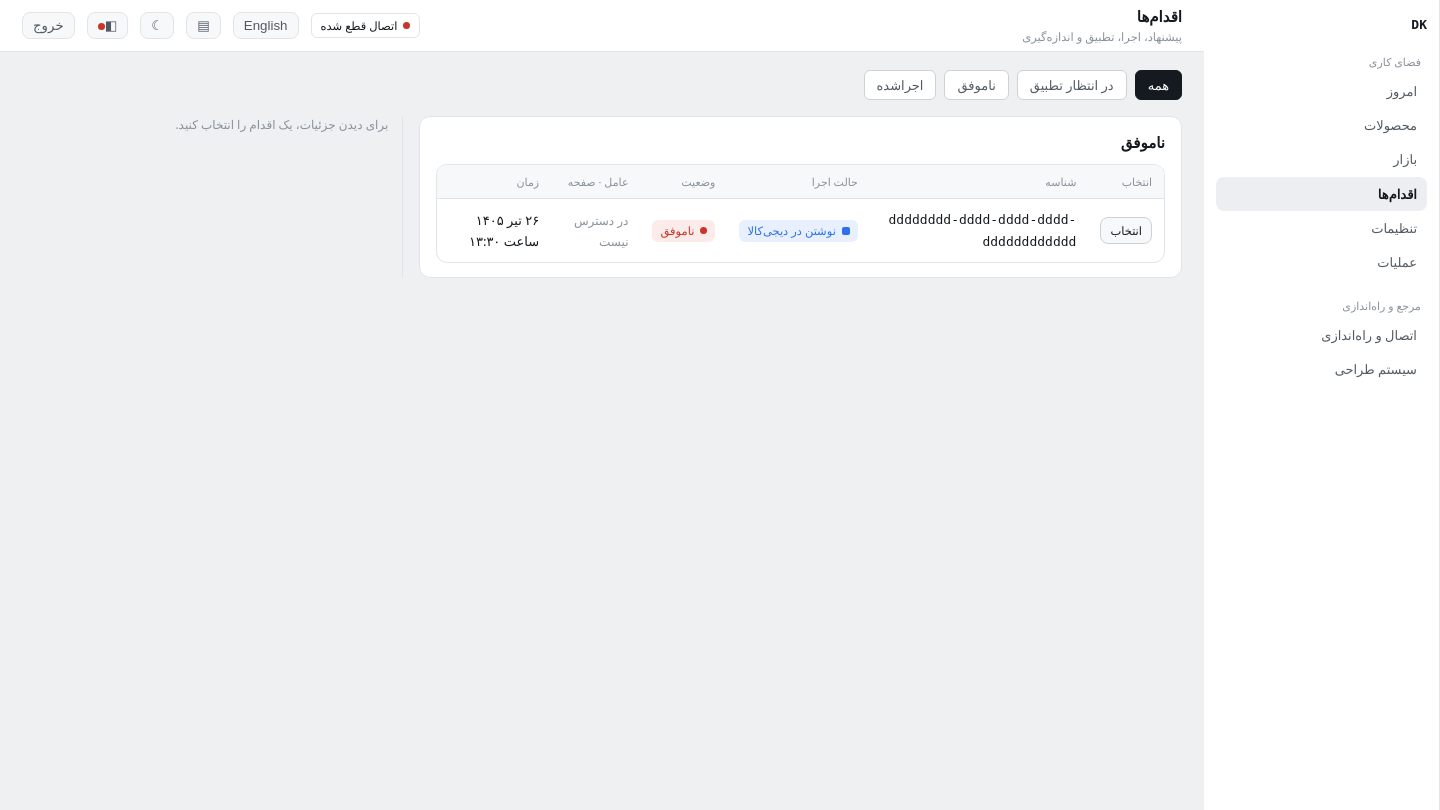
it: Actions — write-mode result handling (EXE-003) › offers retry ONLY for a definitively failed write
The width and height of the screenshot is (1440, 810).
Click the button "انتخاب" at (1126, 231), box 1100,217 -> 1152,244
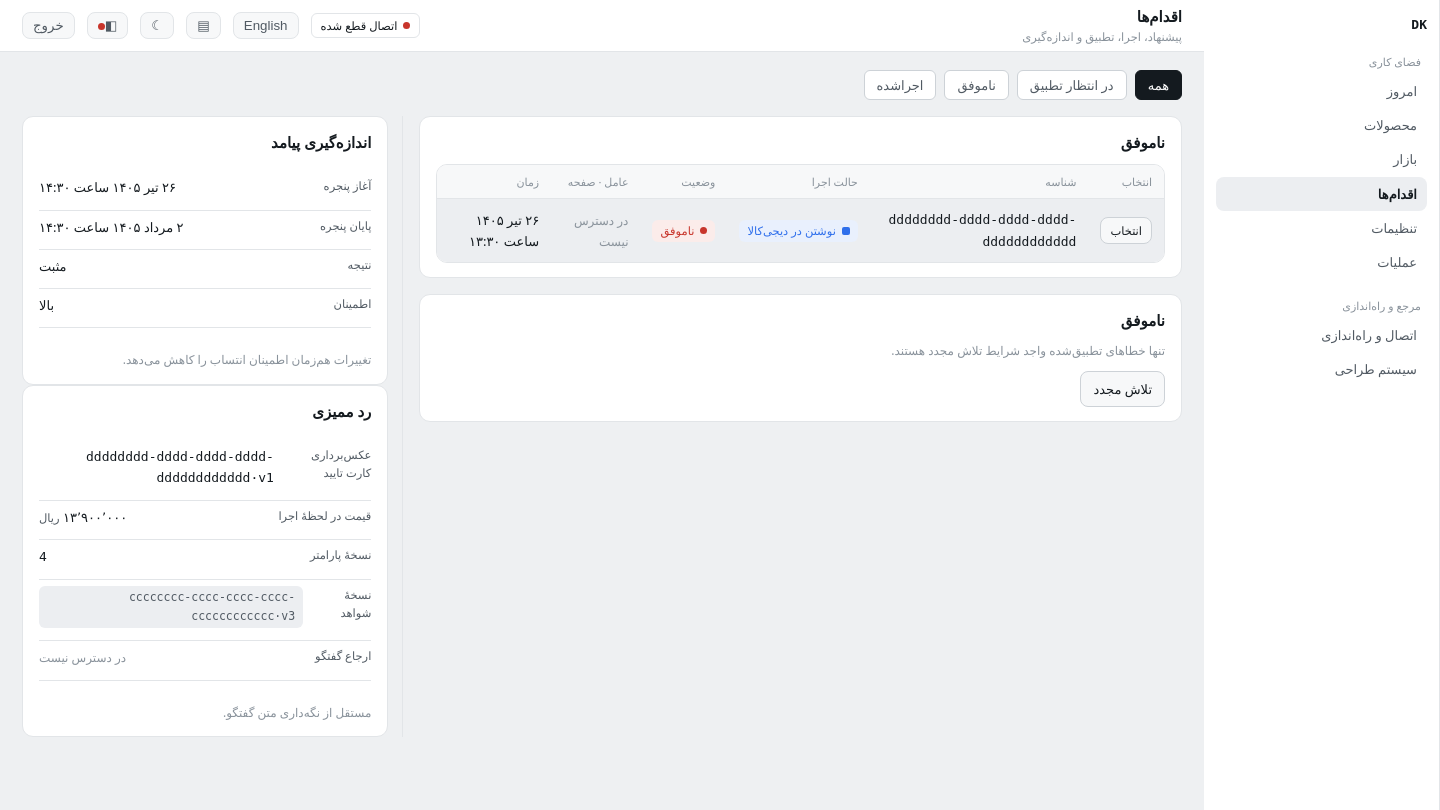
Result: the element with test id "action-failed" is shown at 419,294 -> 1182,422
Result: the button with test id "action-retry" is shown at 1080,371 -> 1165,407
